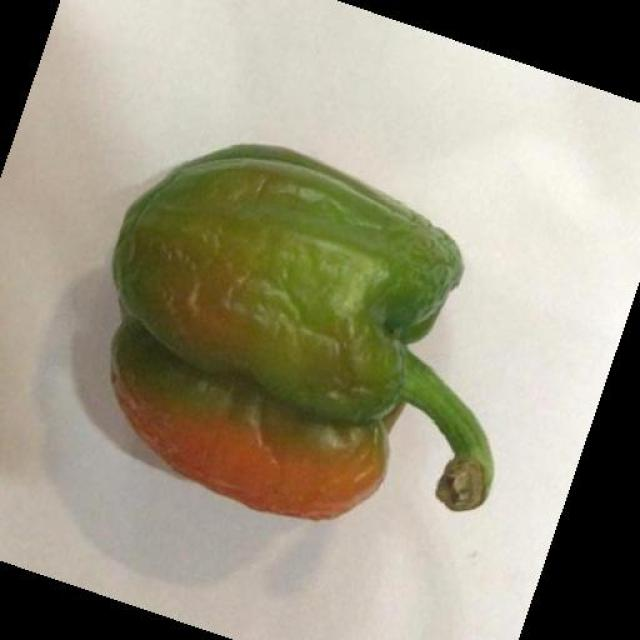Stale_Capsicum: (106, 127, 494, 535)
